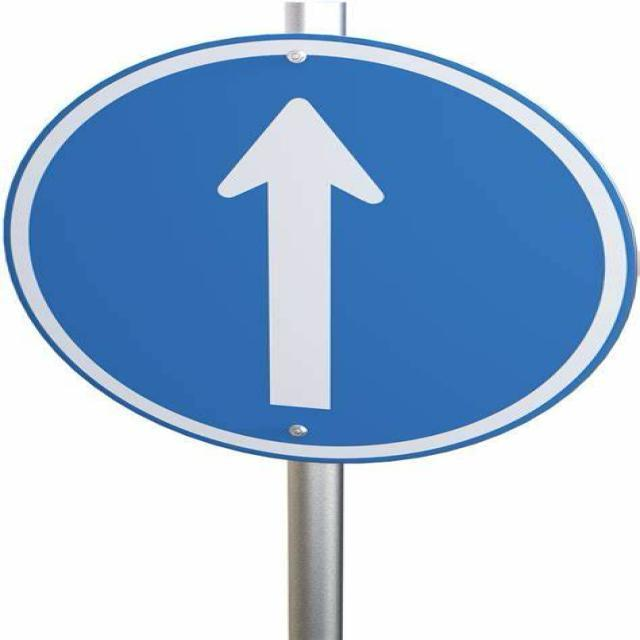compulsary ahead: (27, 52, 610, 448)
